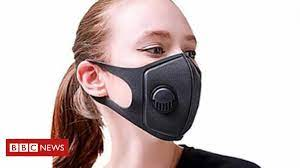FaceMask: (109, 52, 202, 141)
